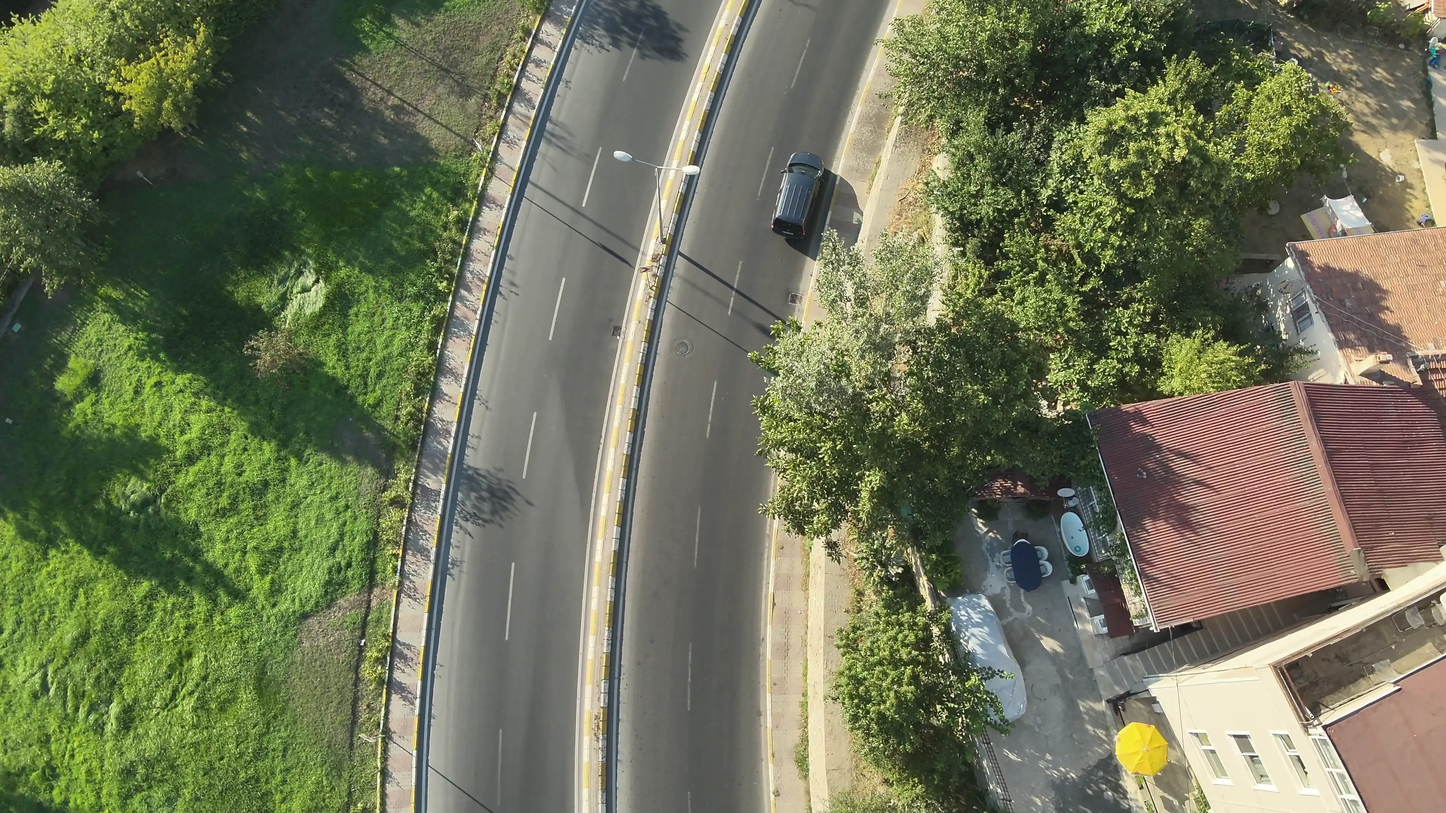vehicle: (768, 152, 832, 243)
